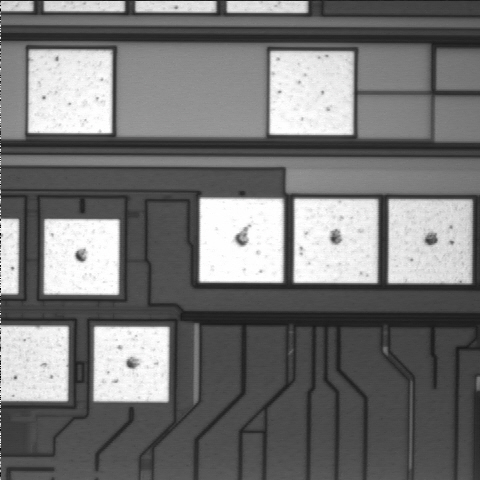pad: (199, 198, 284, 283), (269, 51, 354, 135), (294, 199, 378, 283), (388, 199, 472, 283), (28, 50, 112, 133), (44, 219, 119, 295), (94, 327, 169, 402)
